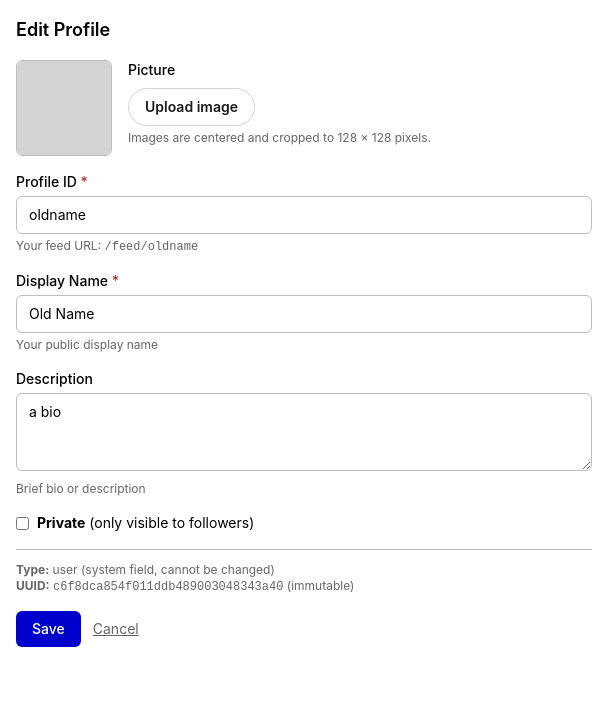
ProfileForm › syncs every field from the server response after saving
Replace the text in the field labelled "Profile ID *" with "NEWNAME" at (304, 215), box x1=16 y1=196 x2=592 y2=234
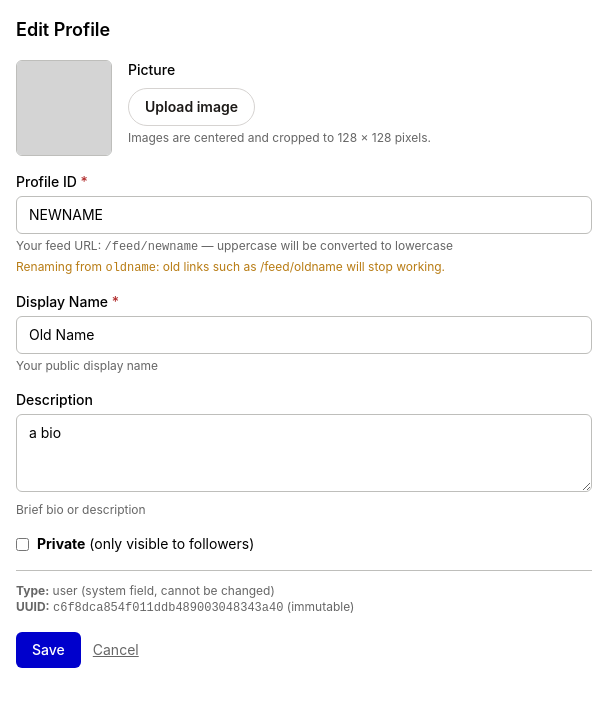
Replace the text in the field labelled "Display Name *" with "New Name" at (304, 335), box x1=16 y1=316 x2=592 y2=354
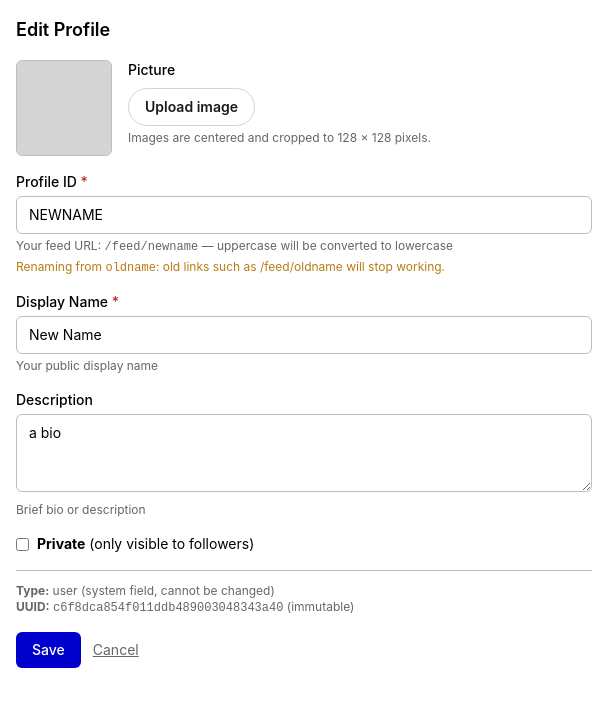
Click the checkbox at (22, 544), box x1=16 y1=538 x2=29 y2=550
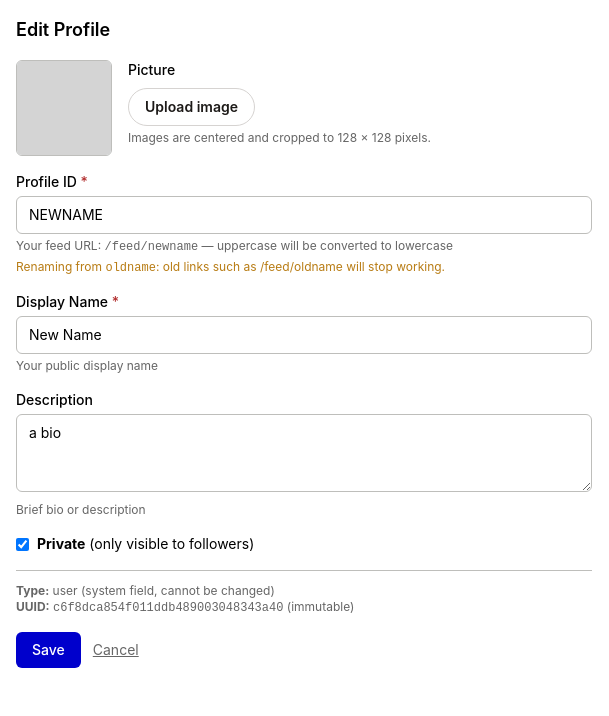
Submit the form
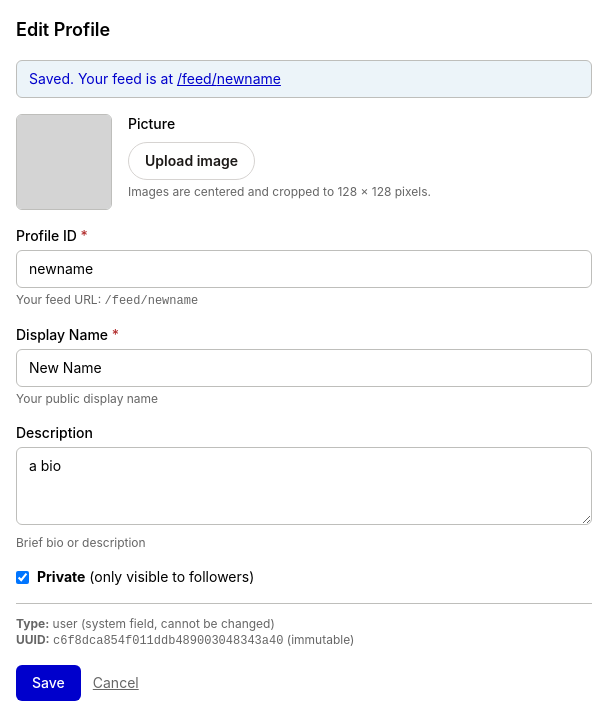
Now the checkbox is checked, box x1=16 y1=570 x2=29 y2=584
Now the message "Saved. Your feed is at /feed/newname" is shown, box x1=16 y1=60 x2=592 y2=98
